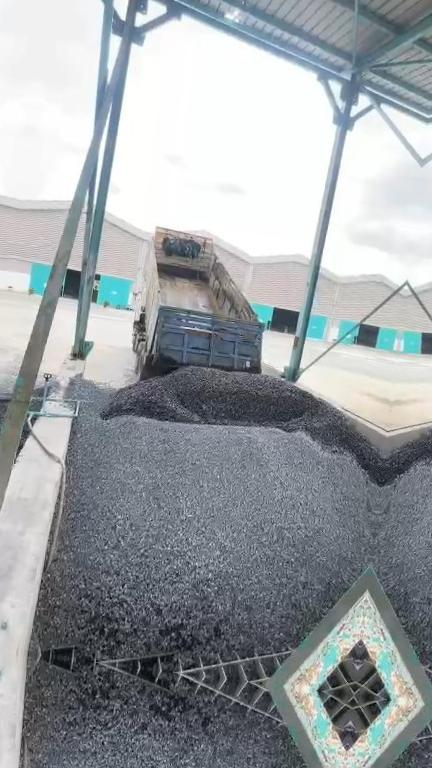gravel: (38, 373, 380, 660), (101, 368, 383, 484), (155, 359, 261, 373), (0, 394, 8, 475)
